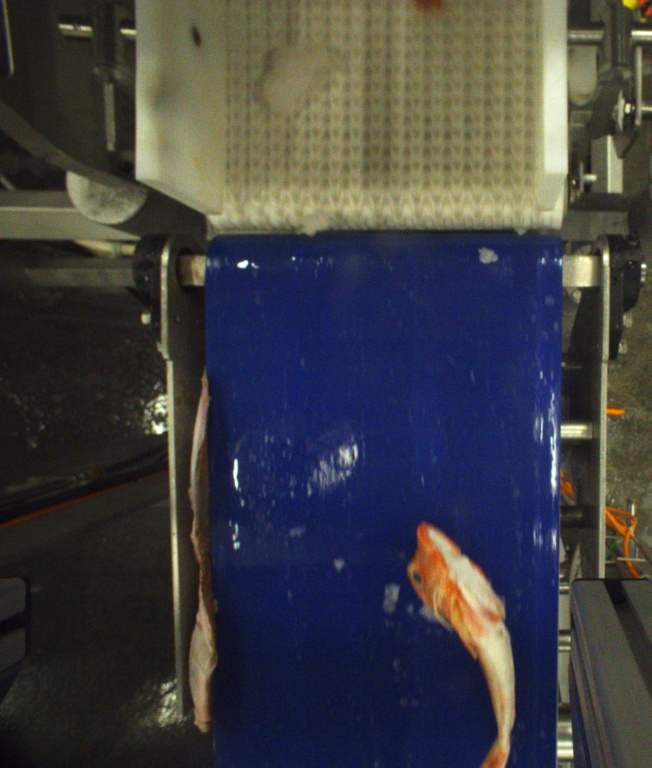GUU: (408, 520, 516, 768)
